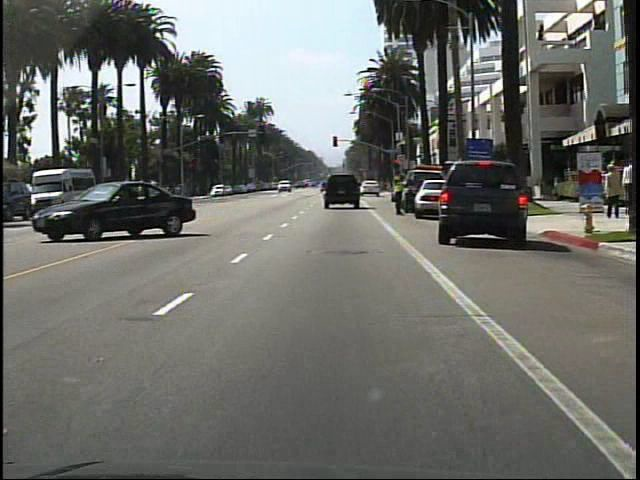person: (599, 160, 621, 223), (388, 171, 406, 219)
